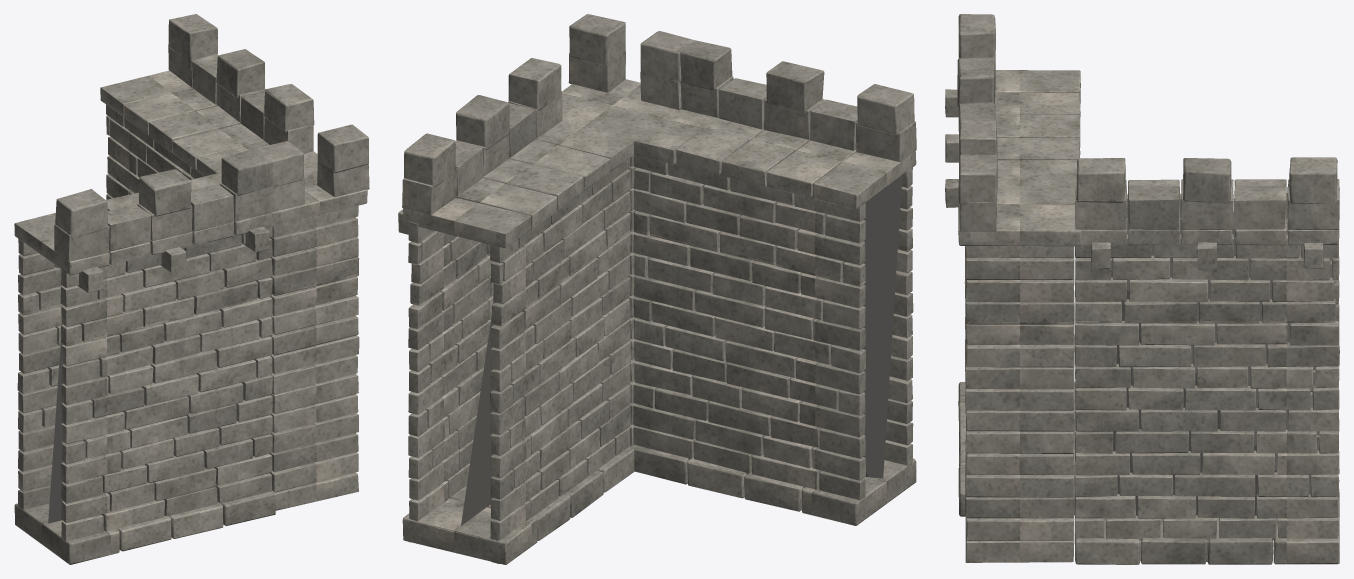
File: wall_corner-LOD2.glb
3 renders of one model, left to right at view 1: azimuth 30°, elevation 25°; view 2: azimuth 150°, elevation 25°; view 3: azimuth 270°, elevation 25°, orthographic. The views are drawn at different scales.
Parts seen in each view (by area): view 1: Bonded ashlar course.002, Bonded ashlar course.003, Bonded ashlar course, Bonded ashlar course.011, Bonded ashlar course.001, Walkway dressed coping, Bonded ashlar course.009, Masonry recessed structural backing; view 2: Bonded ashlar course.003, Bonded ashlar course.011, Walkway dressed coping, Bonded ashlar course.001, Bonded ashlar course.009, Bonded ashlar course, Bonded ashlar course.002, Masonry recessed structural backing; view 3: Bonded ashlar course.011, Bonded ashlar course.003, Bonded ashlar course.001, Walkway dressed coping, Bonded ashlar course.002, Bonded ashlar course, Bonded ashlar course.009, Masonry recessed structural backing.
Boxes of the visible parts, left/top/right/bottom form: Bonded ashlar course.002: left=18, top=83, right=358, bottom=541; Bonded ashlar course.003: left=14, top=49, right=369, bottom=564; Bonded ashlar course: left=18, top=104, right=368, bottom=561; Bonded ashlar course.011: left=18, top=14, right=358, bottom=551; Bonded ashlar course.001: left=17, top=84, right=359, bottom=531; Walkway dressed coping: left=14, top=70, right=367, bottom=292; Bonded ashlar course.009: left=18, top=90, right=359, bottom=516; Masonry recessed structural backing: left=48, top=324, right=63, bottom=523; Bonded ashlar course.003: left=408, top=50, right=916, bottom=542; Bonded ashlar course.011: left=402, top=31, right=912, bottom=517; Walkway dressed coping: left=398, top=79, right=916, bottom=248; Bonded ashlar course.001: left=408, top=58, right=914, bottom=540; Bonded ashlar course.009: left=408, top=40, right=912, bottom=563; Bonded ashlar course: left=402, top=14, right=913, bottom=564; Bonded ashlar course.002: left=408, top=72, right=912, bottom=498; Masonry recessed structural backing: left=461, top=176, right=902, bottom=525; Bonded ashlar course.011: left=959, top=120, right=1339, bottom=564; Bonded ashlar course.003: left=957, top=57, right=1339, bottom=564; Bonded ashlar course.001: left=958, top=14, right=1339, bottom=539; Walkway dressed coping: left=945, top=70, right=1339, bottom=269; Bonded ashlar course.002: left=959, top=149, right=1339, bottom=562; Bonded ashlar course: left=958, top=154, right=1339, bottom=564; Bonded ashlar course.009: left=958, top=102, right=1339, bottom=564; Masonry recessed structural backing: left=1111, top=211, right=1310, bottom=540.
Size of the model in its own units: 4.94 by 5.45 by 4.93.
Materials: 8 (7 with a texture image).
